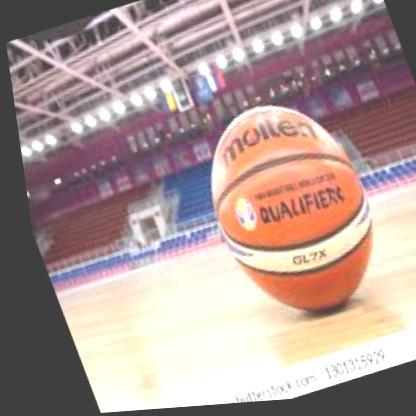basketball: (178, 89, 393, 333)
